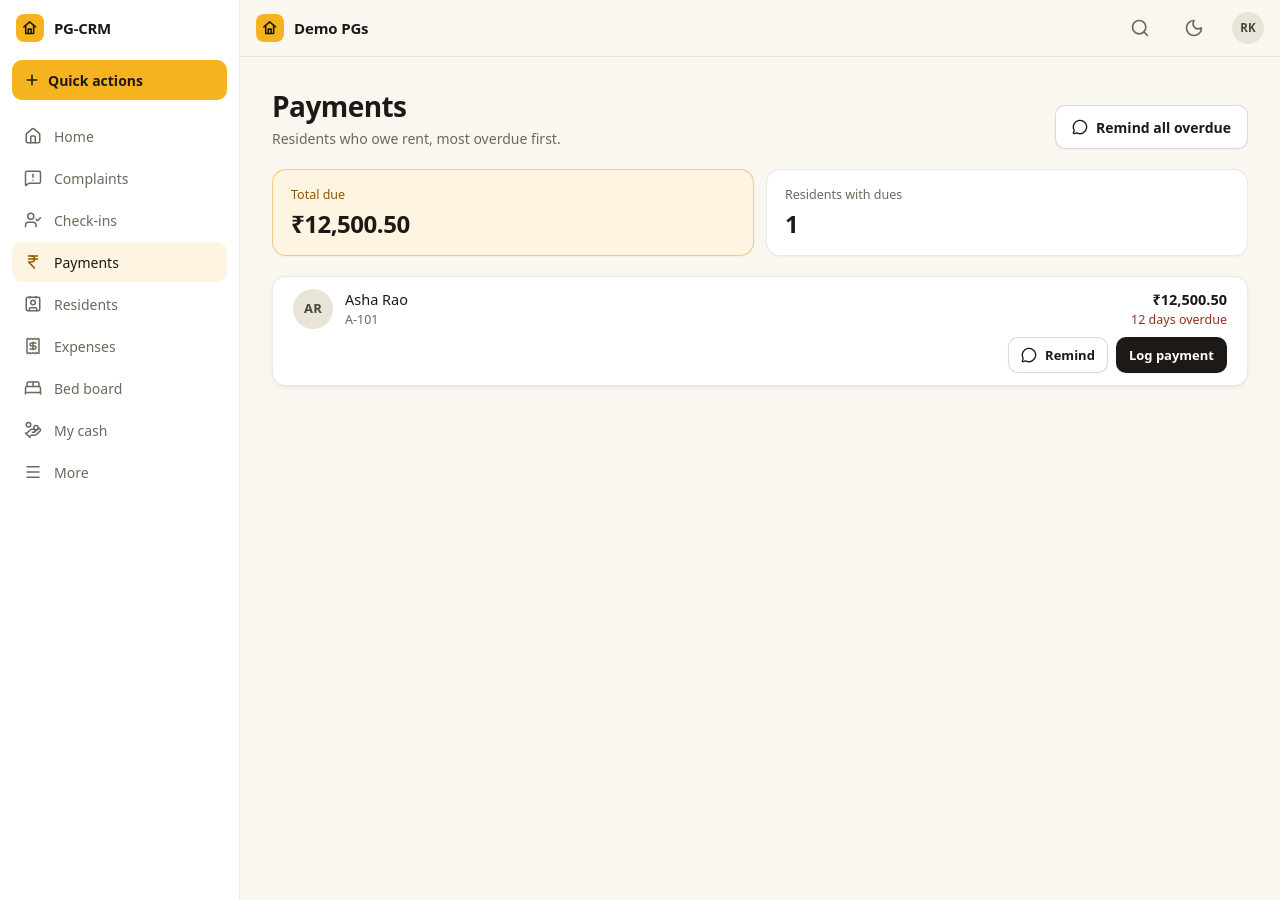
Test: Log payment sheet › [FE-31/AC2] UPI with a 12-digit UTR shows the Provisional badge
Click the button with aria-label "Log payment for Asha Rao": [1171, 355] box 1116,337 -> 1227,373
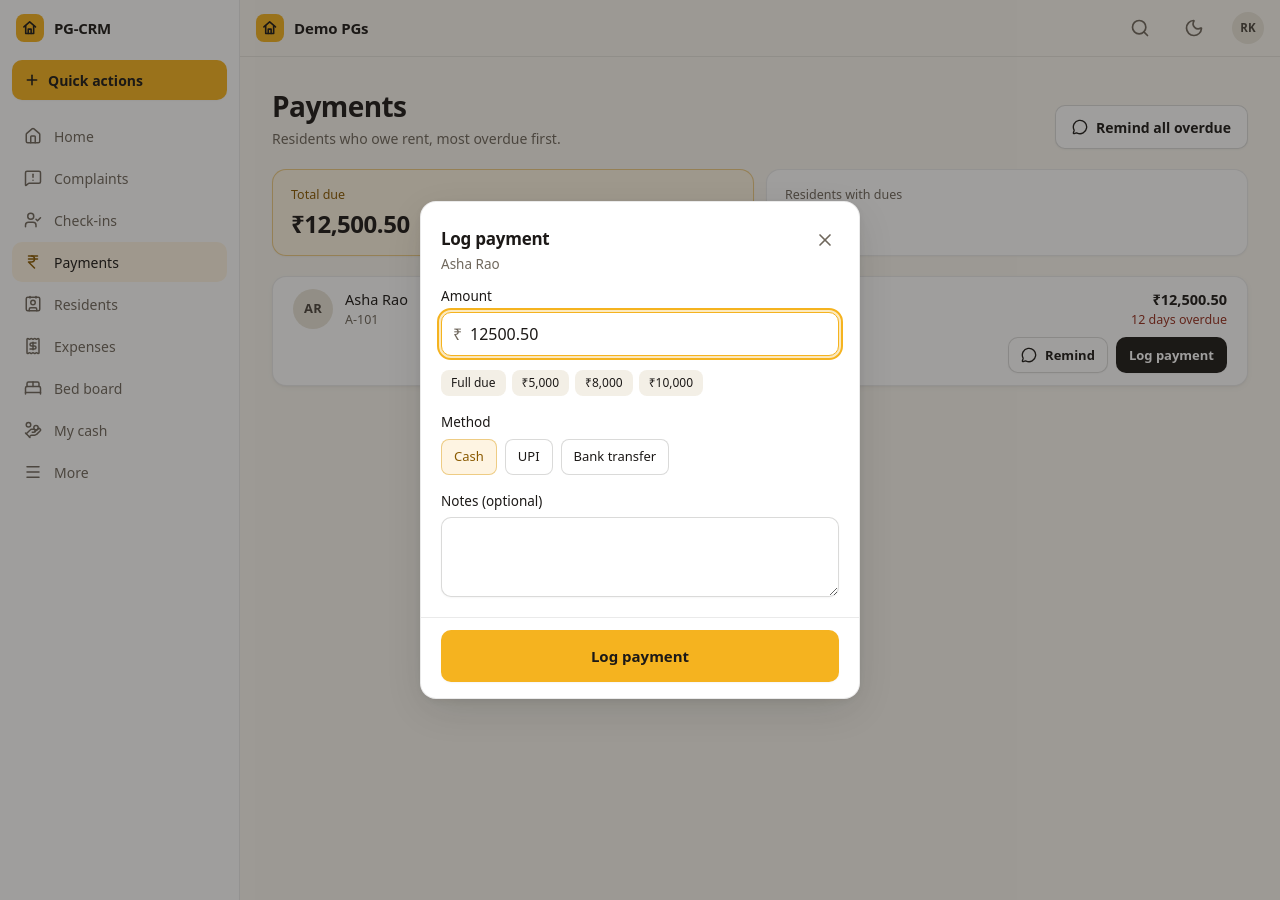
Click the button "UPI": [529, 456] box 505,438 -> 553,474
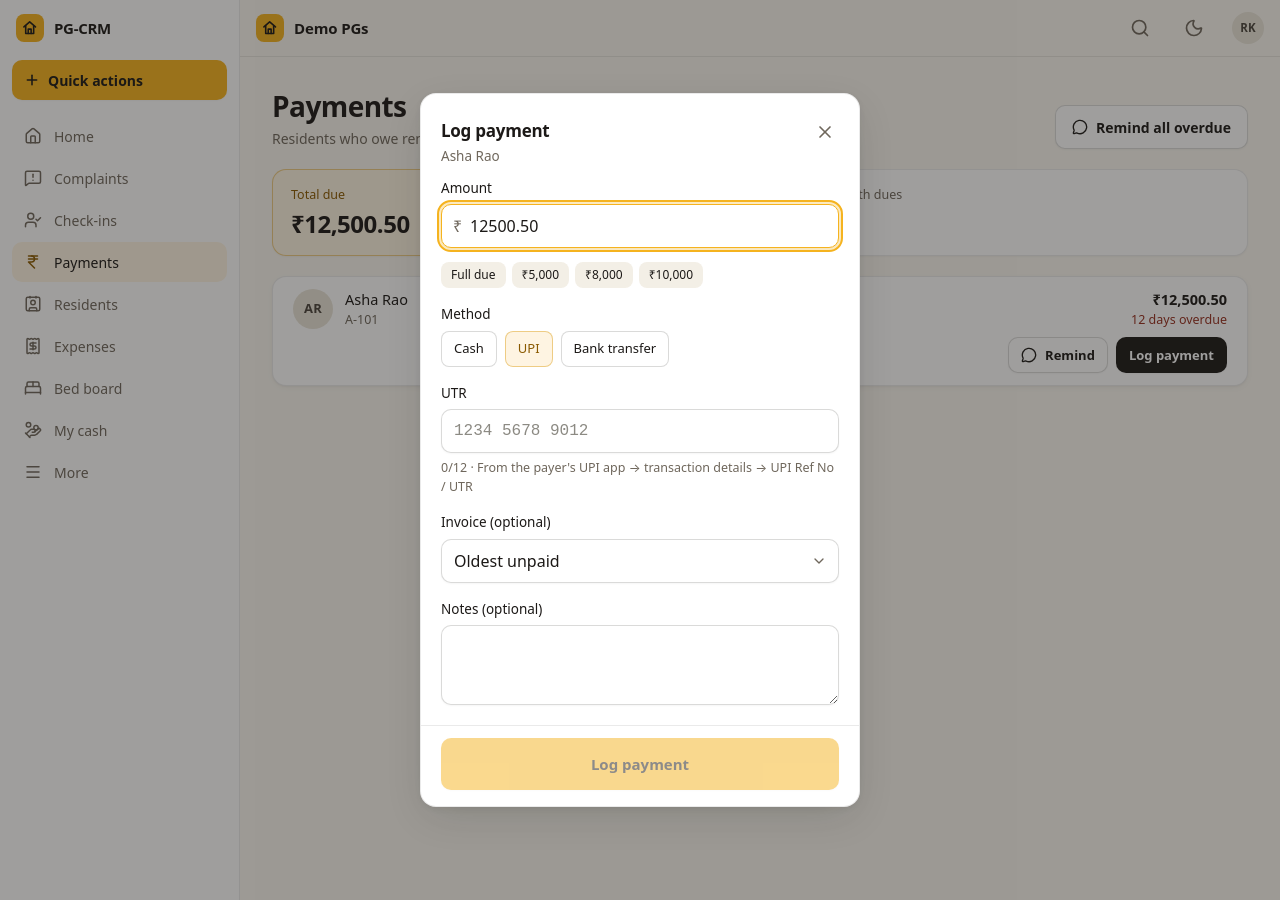
In the field labelled "UTR": [640, 431] box 441,409 -> 839,453, type "123456789012"
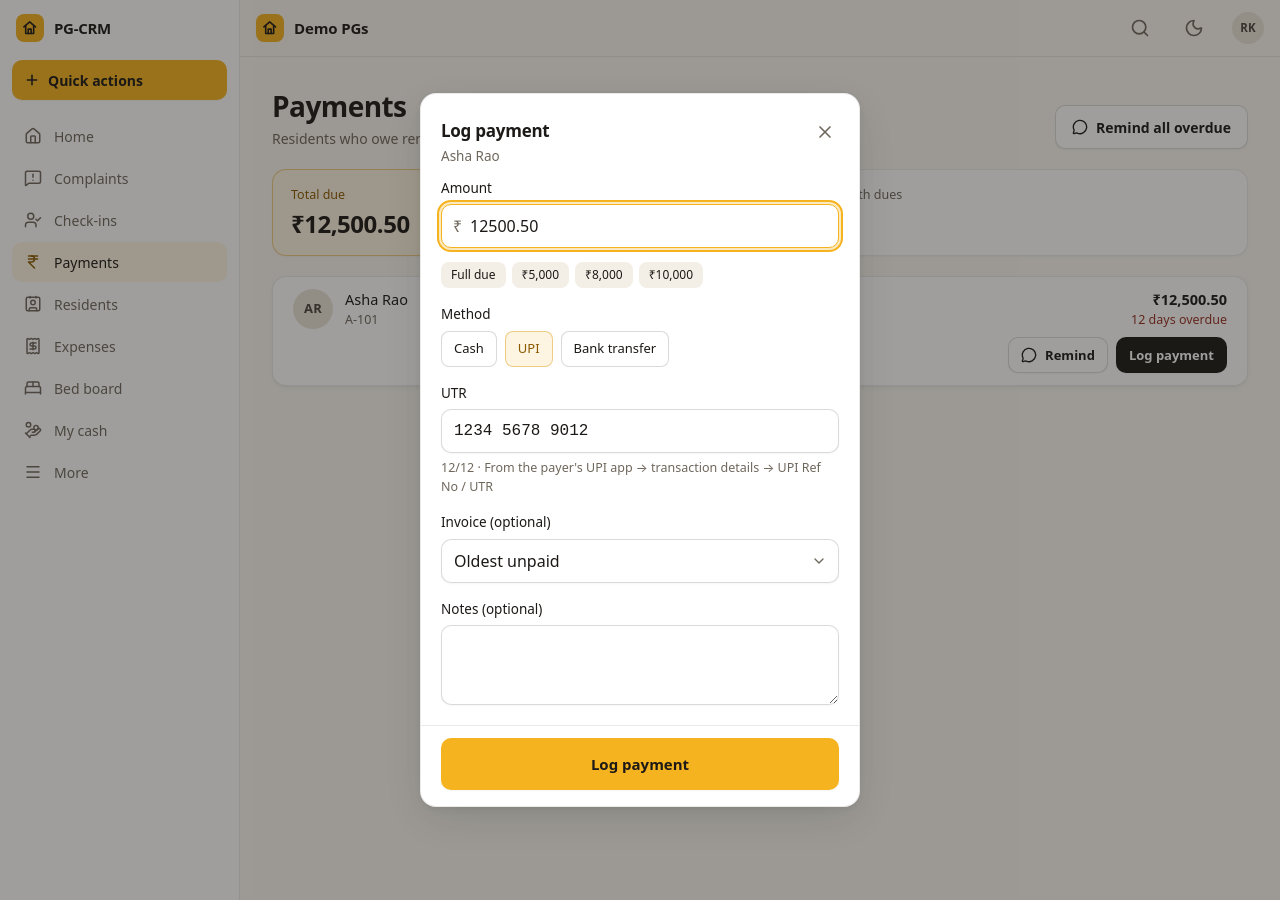
Click the submit button: [640, 764] box 441,738 -> 839,790
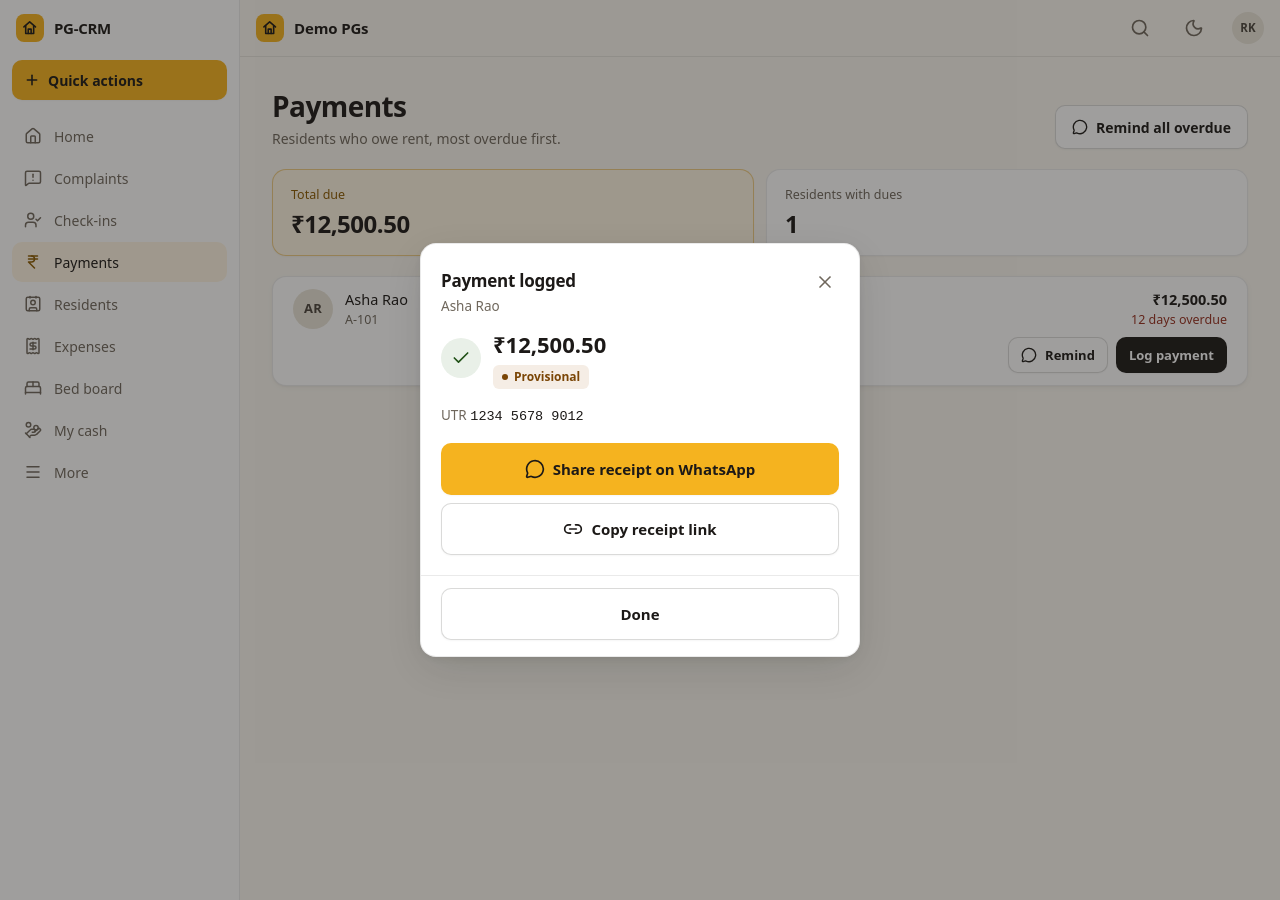
Result: the heading "Payment logged" is shown at 441,268 -> 576,294
Result: the text "Provisional" is shown at 493,365 -> 589,389
Result: the text "1234 5678 9012" is shown at 470,409 -> 584,424
